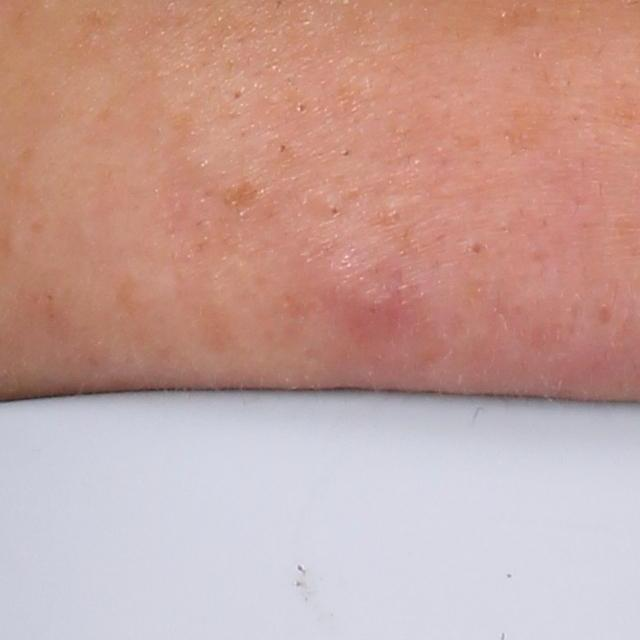comedo: (461, 234, 487, 260)
